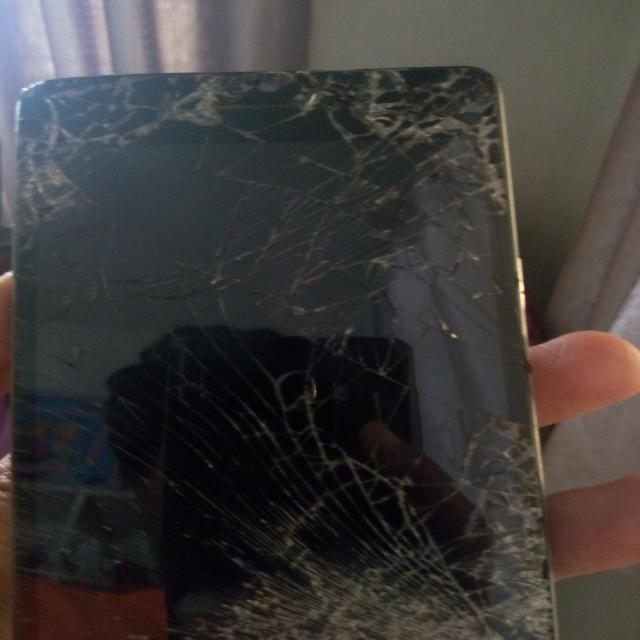phone: (19, 66, 576, 640)
